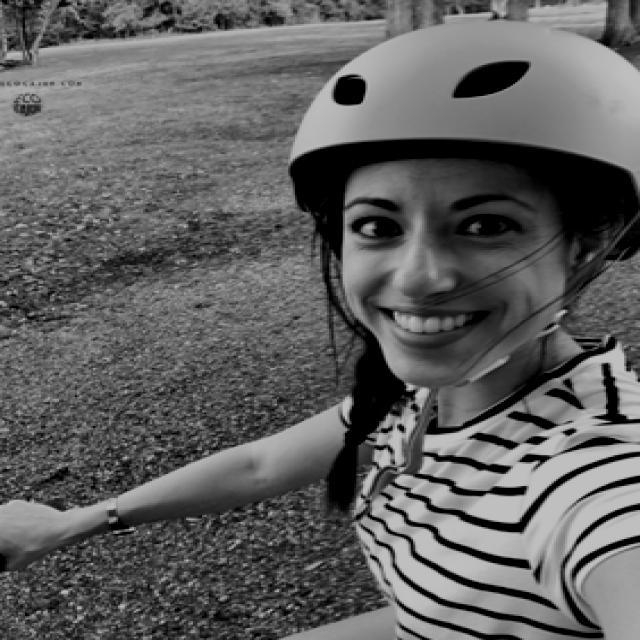Helmet: (268, 22, 640, 388)
